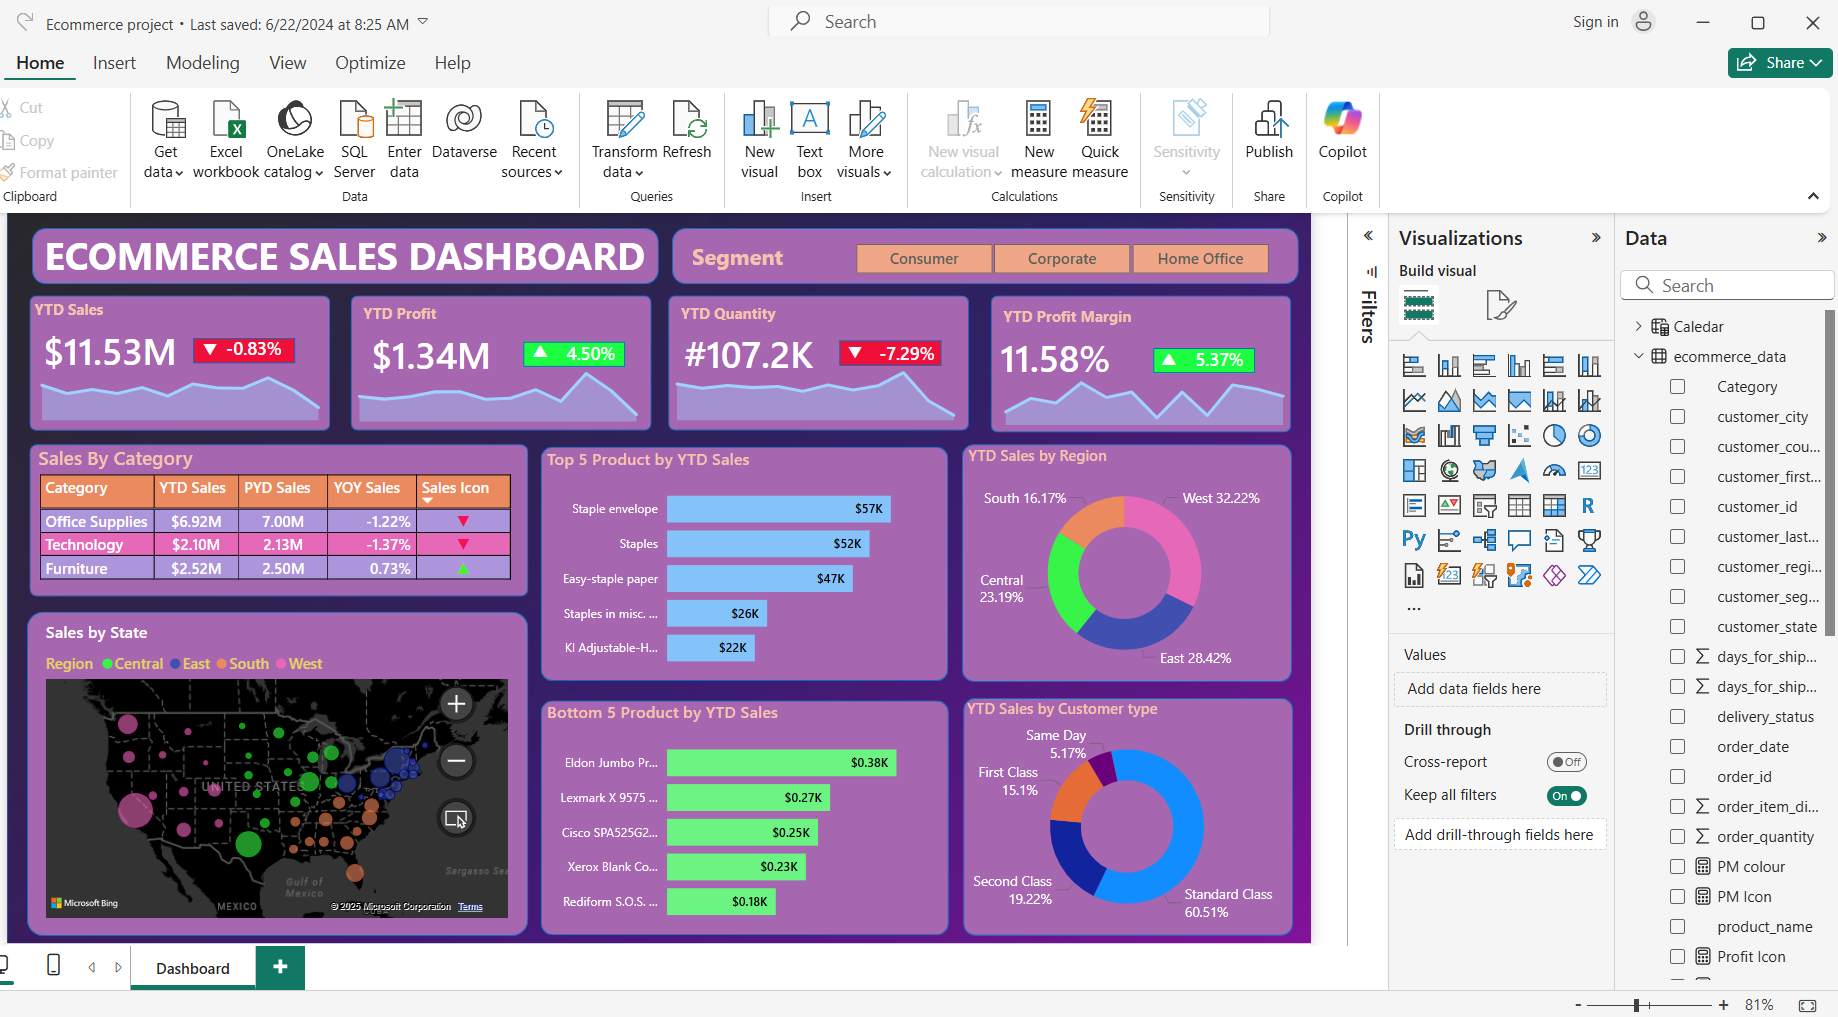

This screenshot's page, from the dashboard's own definition file:
{"tool":"powerbi","page":{"name":"Dashboard","canvas":[1280,720],"ordinal":0},"visuals":[{"type":"shape","box":[22.1,81.2,295.2,132.8],"z":0},{"type":"shape","box":[182.5,122.1,100.2,24.7],"z":1000},{"type":"shape","title":"ECOMMERCE SALES DASHBOARD","box":[24.1,14.5,615.3,55.5],"z":2000},{"type":"textbox","box":[24.1,10.9,614.1,61.5],"z":3000},{"type":"card","fields":{"Values":["ecommerce_data.YTD Sales"]},"box":[21.7,102.5,158,65.1],"z":4000},{"type":"areaChart","fields":{"Category":["Caledar.Month"],"Y":["Sum(ecommerce_data.sales_per_order)"]},"box":[19.7,141.4,301.3,67.6],"z":5000},{"type":"card","fields":{"Values":["ecommerce_data.YOY Sales"]},"box":[200.3,119.4,85.1,31.6],"z":6000},{"type":"card","fields":{"Values":["ecommerce_data.Sales Icon"]},"box":[164.7,119.4,70,23.3],"z":7000},{"type":"shape","box":[337.8,80.8,295.6,132.7],"z":8000},{"type":"textbox","box":[21.7,79.6,95.3,30.2],"z":9000},{"type":"shape","box":[506.2,126.3,100.2,24.7],"z":10000},{"type":"card","fields":{"Values":["ecommerce_data.YTD Profit"]},"box":[337.8,106.2,158,65.1],"z":11000},{"type":"areaChart","fields":{"Category":["Caledar.Month"],"Y":["Sum(ecommerce_data.profit_per_order)"]},"box":[331.8,142.4,301.6,67.6],"z":12000},{"type":"card","fields":{"Values":["ecommerce_data.YOY Profit"]},"box":[538.1,125.5,68.8,29],"z":13000},{"type":"card","fields":{"Values":["ecommerce_data.Profit Icon"]},"box":[488.6,121.9,70,24.1],"z":14000},{"type":"textbox","box":[345.4,83.8,94.1,30.2],"z":15000},{"type":"shape","box":[649.1,80.8,295.6,132.7],"z":16000},{"type":"shape","box":[817.3,125.7,100.2,24.7],"z":17000},{"type":"card","fields":{"Values":["ecommerce_data.YTD Concatenated Qty"]},"box":[648.9,105.6,158,65.1],"z":18000},{"type":"areaChart","fields":{"Category":["Caledar.Month"],"Y":["Sum(ecommerce_data.order_quantity)"]},"box":[643,141.2,301.6,67.6],"z":19000},{"type":"card","fields":{"Values":["ecommerce_data.YOY Qnty"]},"box":[849.2,124.9,68.8,29],"z":20000},{"type":"card","fields":{"Values":["ecommerce_data.Qnty Icon"]},"box":[797.5,123.1,70,24.1],"z":21000},{"type":"textbox","box":[656.7,83.6,135.3,30.7],"z":22000},{"type":"shape","box":[966,81,295,134.5],"z":23000},{"type":"shape","box":[1125.5,132.8,100.2,24.7],"z":24000},{"type":"card","fields":{"Values":["ecommerce_data.YTD Profit Margin"]},"box":[956.8,113.1,143.9,57.8],"z":25000},{"type":"areaChart","fields":{"Category":["Caledar.Month"],"Y":["ecommerce_data.Profit Margin"]},"box":[966,145.5,301.9,67.2],"z":26000},{"type":"card","fields":{"Values":["ecommerce_data.YOY Profit Margin"]},"box":[1156,131.6,68.9,29.5],"z":27000},{"type":"card","fields":{"Values":["ecommerce_data.PM Icon"]},"box":[1105.6,129.1,70.1,23.4],"z":28000},{"type":"textbox","box":[972.9,86.4,152.3,32.9],"z":29000},{"type":"shape","box":[21.7,226.8,489.8,149.6],"z":30000},{"type":"tableEx","title":"Sales By Category","fields":{"Values":["ecommerce_data.Category_name","ecommerce_data.YTD Sales","ecommerce_data.PYD Sales","ecommerce_data.YOY Sales","ecommerce_data.Sales Icon"]},"box":[25.3,226.8,481.4,154.4],"z":31000},{"type":"shape","box":[19.3,390.9,492.2,318.5],"z":32000},{"type":"map","title":"Sales by State","fields":{"Y":["us_state_long_lat_codes.latitude"],"X":["us_state_long_lat_codes.longitude"],"Size":["ecommerce_data.YTD Sales"],"Series":["ecommerce_data.customer_region"]},"box":[32.6,400.5,463.3,296.8],"z":33000},{"type":"shape","box":[523.6,229.2,400,230],"z":34000},{"type":"shape","box":[523.6,479,400.5,230.4],"z":35000},{"type":"barChart","title":"Top 5 Product by YTD Sales","fields":{"Y":["ecommerce_data.YTD Sales"],"Category":["ecommerce_data.product_name"]},"box":[525.6,229.2,392.5,230.5],"z":36000},{"type":"barChart","title":"Bottom 5 Product by YTD Sales","fields":{"Y":["ecommerce_data.YTD Sales"],"Category":["ecommerce_data.product_name"]},"box":[524.8,479,393.3,230.4],"z":37000},{"type":"shape","box":[937.2,226.4,323.8,233.3],"z":38000},{"type":"shape","box":[938.6,476.2,323.8,233.3],"z":39000},{"type":"donutChart","title":"YTD Sales by Region","fields":{"Category":["ecommerce_data.customer_region"],"Y":["ecommerce_data.YTD Sales"]},"box":[938.6,226.4,317,233.3],"z":40000},{"type":"donutChart","title":"YTD Sales by Customer type","fields":{"Y":["ecommerce_data.YTD Sales"],"Category":["ecommerce_data.shipping_type"]},"box":[937.4,476.5,324.5,232.8],"z":41000},{"type":"shape","title":"ECOMMERCE SALES DASHBOARD","box":[650.3,11,614.7,61.4],"z":42000},{"type":"slicer","fields":{"Values":["ecommerce_data.customer_segment"]},"box":[849.1,25.8,398.8,46.6],"z":43000},{"type":"textbox","box":[1009.8,4.9,87.1,41.7],"z":44000},{"type":"actionButton","title":"Date Filter Open","box":[682.5,21.7,150.4,39],"z":46001}]}

Visuals, with their boxes on the page's 1280x720 design canvas (x1, y1, x2, y2). These are canvas units, not pixel positions in the 1838x1017 screenshot, which may show the page scaled, cropped or inside an application window:
shape: bbox=(22, 81, 317, 214)
shape: bbox=(182, 122, 283, 147)
"ECOMMERCE SALES DASHBOARD" shape: bbox=(24, 14, 639, 70)
textbox: bbox=(24, 11, 638, 72)
card - ecommerce_data.YTD Sales: bbox=(22, 102, 180, 168)
areaChart - Caledar.Month x Sum(ecommerce_data.sales_per_order): bbox=(20, 141, 321, 209)
card - ecommerce_data.YOY Sales: bbox=(200, 119, 285, 151)
card - ecommerce_data.Sales Icon: bbox=(165, 119, 235, 143)
shape: bbox=(338, 81, 633, 214)
textbox: bbox=(22, 80, 117, 110)
shape: bbox=(506, 126, 606, 151)
card - ecommerce_data.YTD Profit: bbox=(338, 106, 496, 171)
areaChart - Caledar.Month x Sum(ecommerce_data.profit_per_order): bbox=(332, 142, 633, 210)
card - ecommerce_data.YOY Profit: bbox=(538, 126, 607, 154)
card - ecommerce_data.Profit Icon: bbox=(489, 122, 559, 146)
textbox: bbox=(345, 84, 440, 114)
shape: bbox=(649, 81, 945, 214)
shape: bbox=(817, 126, 918, 150)
card - ecommerce_data.YTD Concatenated Qty: bbox=(649, 106, 807, 171)
areaChart - Caledar.Month x Sum(ecommerce_data.order_quantity): bbox=(643, 141, 945, 209)
card - ecommerce_data.YOY Qnty: bbox=(849, 125, 918, 154)
card - ecommerce_data.Qnty Icon: bbox=(798, 123, 868, 147)
textbox: bbox=(657, 84, 792, 114)
shape: bbox=(966, 81, 1261, 216)
shape: bbox=(1126, 133, 1226, 158)
card - ecommerce_data.YTD Profit Margin: bbox=(957, 113, 1101, 171)
areaChart - Caledar.Month x ecommerce_data.Profit Margin: bbox=(966, 146, 1268, 213)
card - ecommerce_data.YOY Profit Margin: bbox=(1156, 132, 1225, 161)
card - ecommerce_data.PM Icon: bbox=(1106, 129, 1176, 152)
textbox: bbox=(973, 86, 1125, 119)
shape: bbox=(22, 227, 512, 376)
"Sales By Category" tableEx: bbox=(25, 227, 507, 381)
shape: bbox=(19, 391, 512, 709)
"Sales by State" map: bbox=(33, 400, 496, 697)
shape: bbox=(524, 229, 924, 459)
shape: bbox=(524, 479, 924, 709)
"Top 5 Product by YTD Sales" barChart: bbox=(526, 229, 918, 460)
"Bottom 5 Product by YTD Sales" barChart: bbox=(525, 479, 918, 709)
shape: bbox=(937, 226, 1261, 460)
shape: bbox=(939, 476, 1262, 710)
"YTD Sales by Region" donutChart: bbox=(939, 226, 1256, 460)
"YTD Sales by Customer type" donutChart: bbox=(937, 476, 1262, 709)
"ECOMMERCE SALES DASHBOARD" shape: bbox=(650, 11, 1265, 72)
slicer - ecommerce_data.customer_segment: bbox=(849, 26, 1248, 72)
textbox: bbox=(1010, 5, 1097, 47)
"Date Filter Open" actionButton: bbox=(682, 22, 833, 61)
